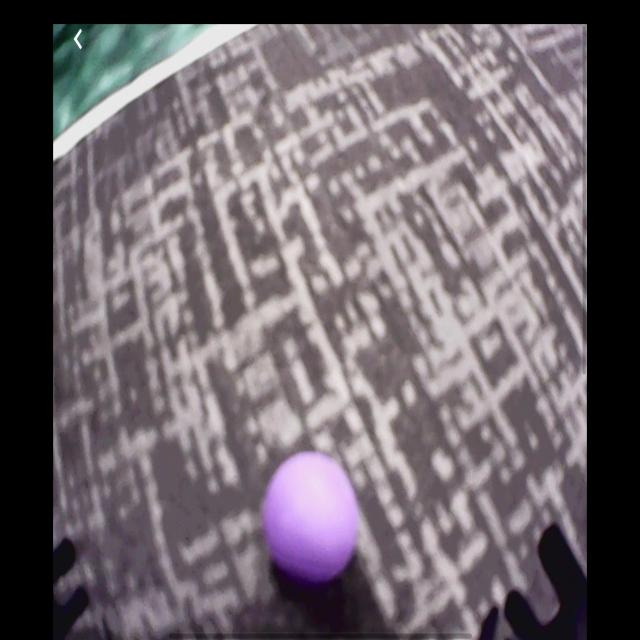ball: (262, 452, 361, 588)
